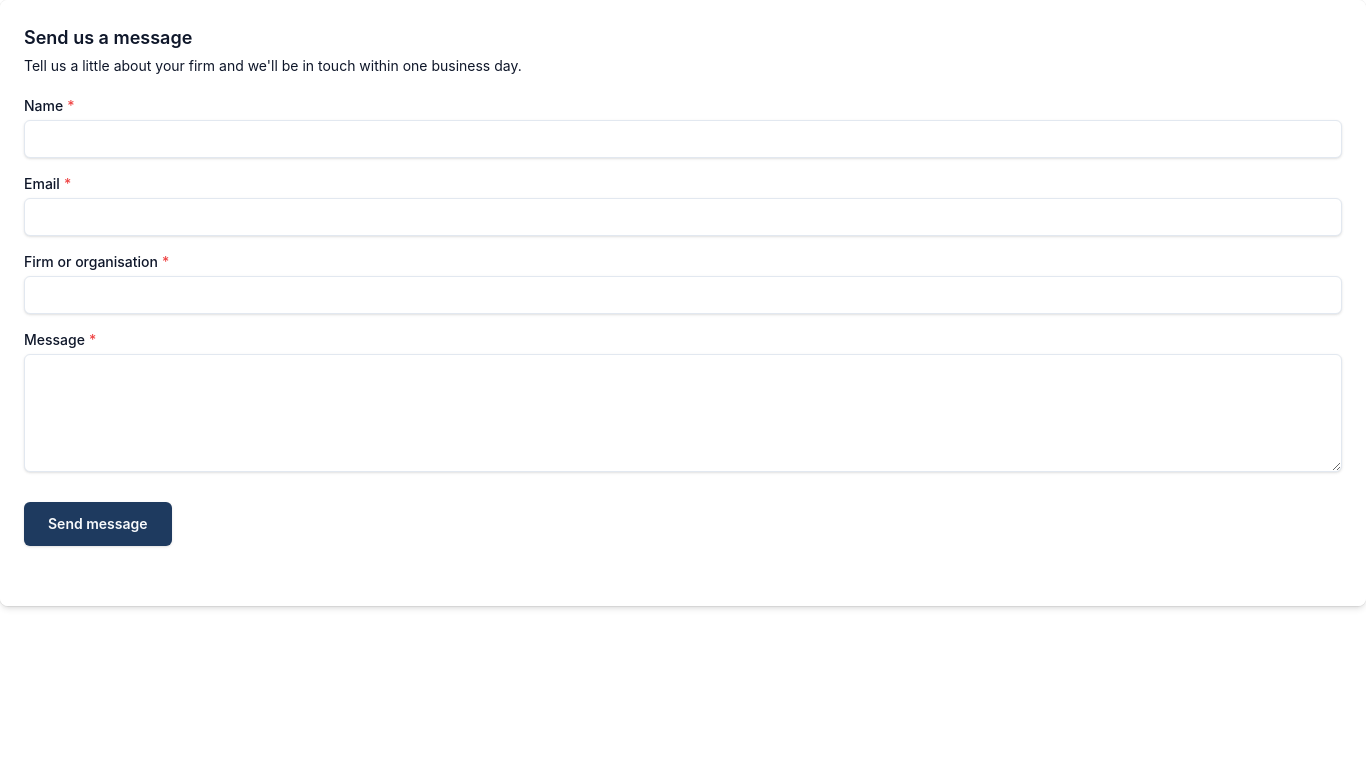
Test: ContactForm — submit paths › shows the rate-limit message when the route returns 429
In the field labelled "Name*": coordinates (683, 139) [24,120,1342,158], type "Jane Doe"
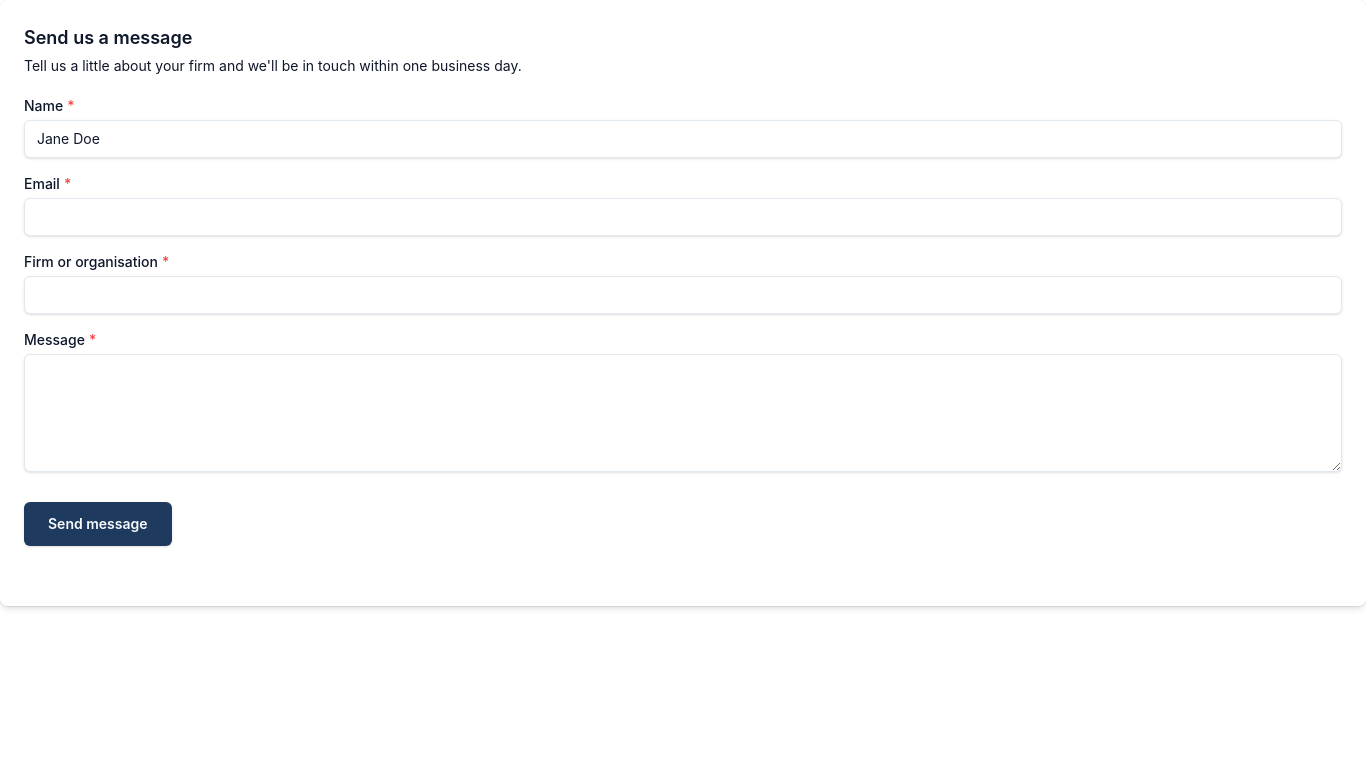
In the field labelled "Email*": coordinates (683, 217) [24,198,1342,236], type "jane@example.com"
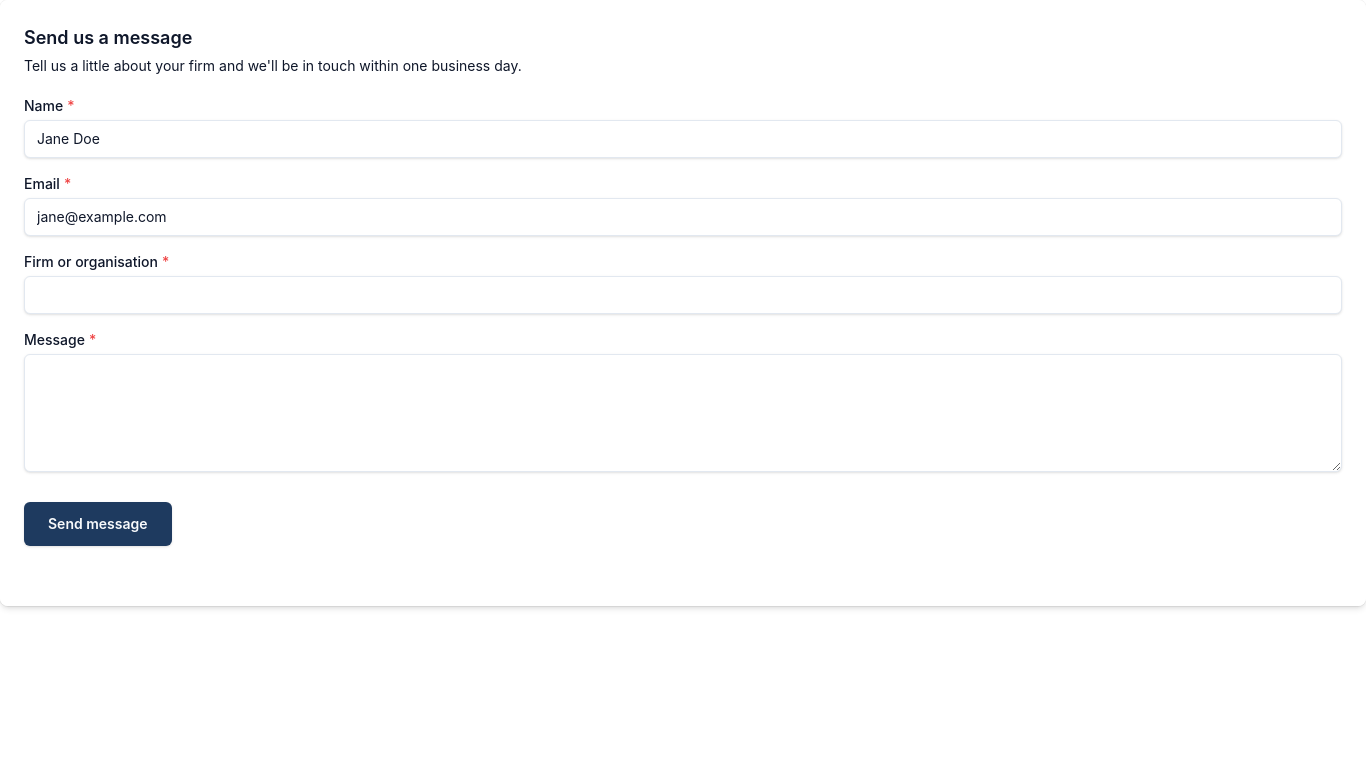
In the field labelled "Firm or organisation*": coordinates (683, 295) [24,276,1342,314], type "Doe & Co Solicitors"
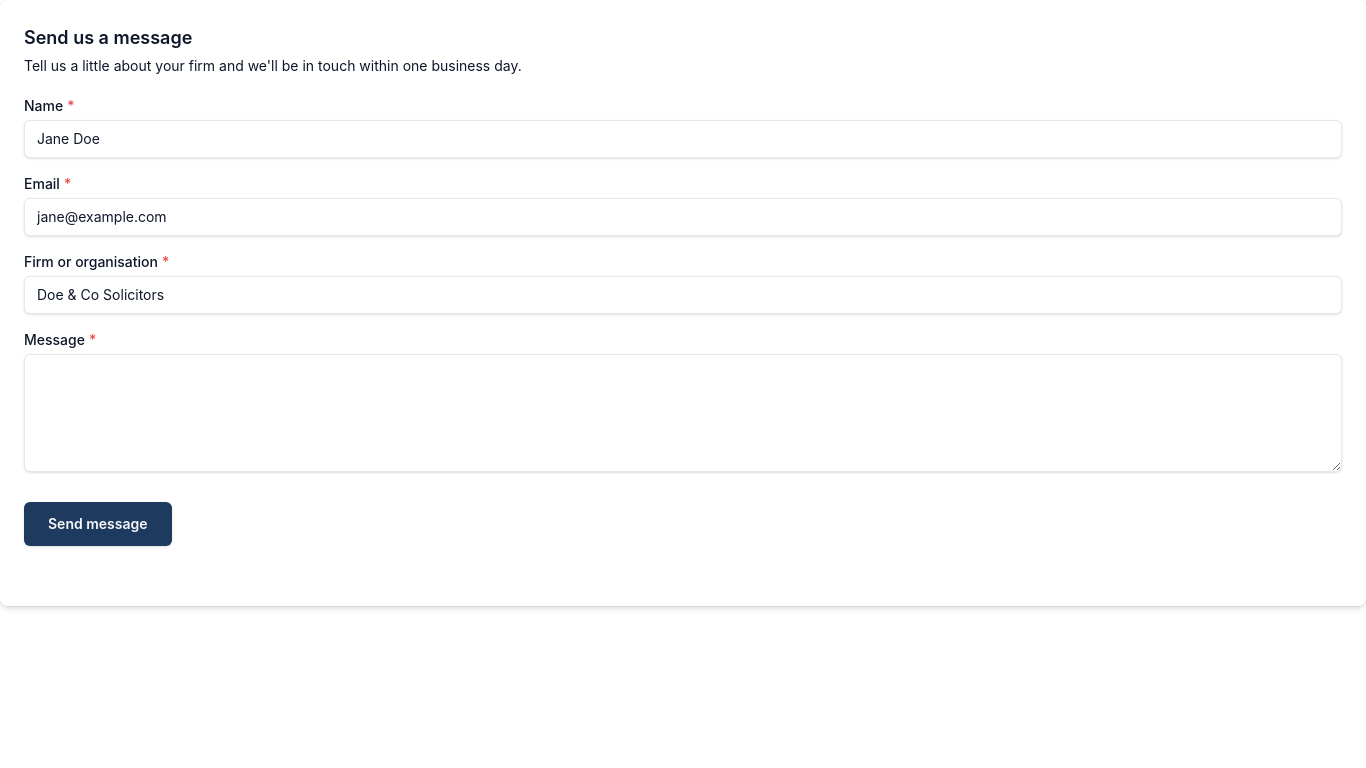
In the text box labelled "Message*": coordinates (683, 413) [24,354,1342,472], type "We'd like a demo of CaseSift for our small firm."
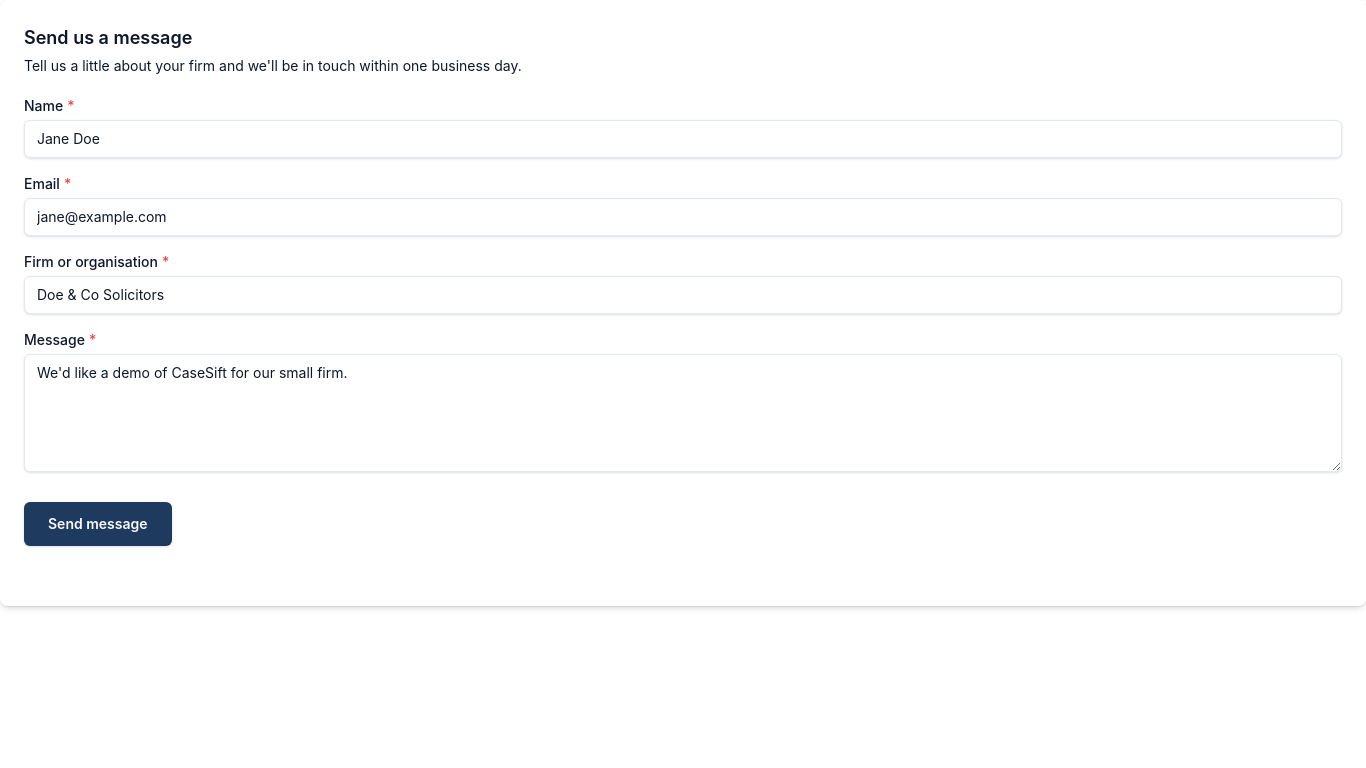
Submit the form named "send message"
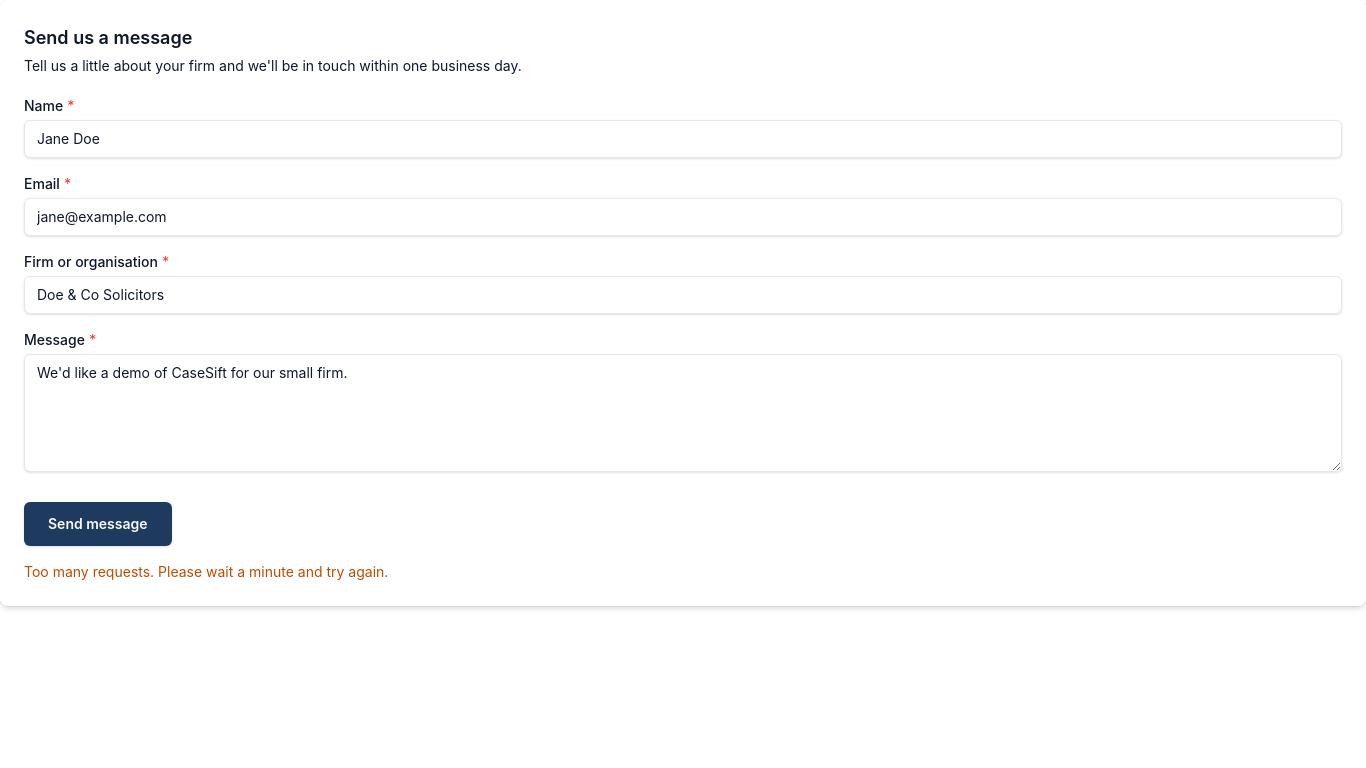
Result: the text "Too many requests. Please wait a minute and try again." is shown at [24,563,388,580]
